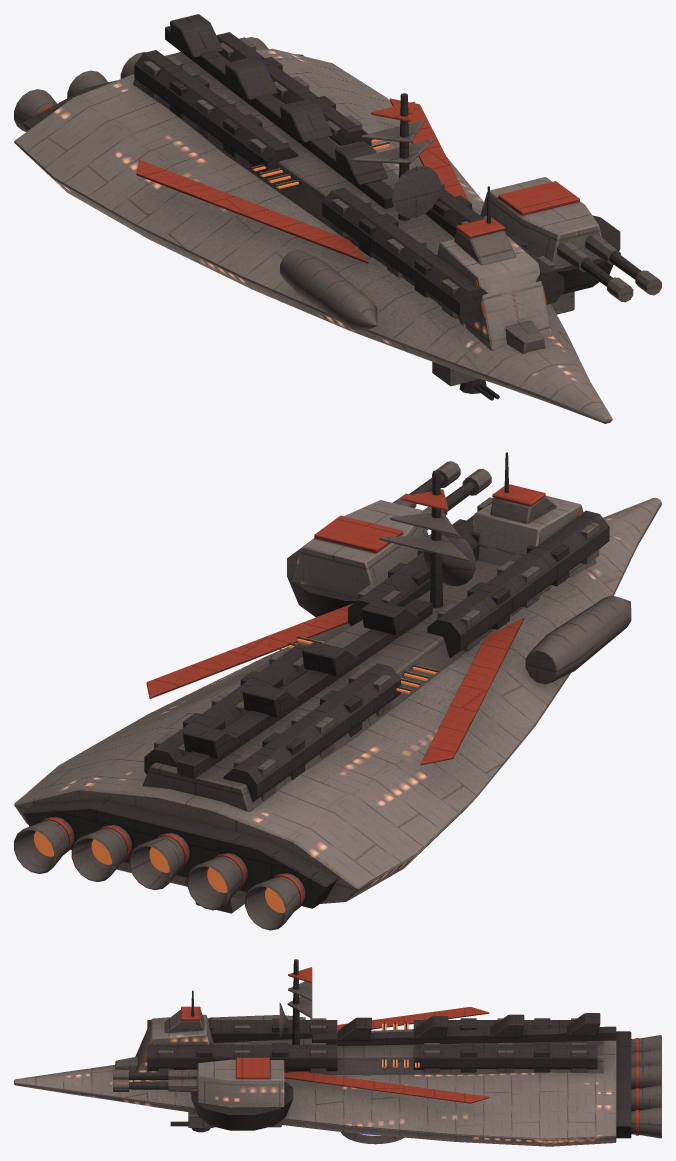
Rendered from vashkar_picket.glb.
3 views of the same model, one above another, from view 1: azimuth 30°, elevation 25°; view 2: azimuth 150°, elevation 25°; view 3: azimuth 270°, elevation 25° (orthographic). The views are drawn at different scales.
Parts seen in each view (by area): view 1: HULL, SYS_WPN1, SYS_BUS_A, SYS_BUS_F, SYS_BRIDGE, SYS_SENSORS, SYS_DRIVE, SYS_PD, SYS_REACTOR; view 2: HULL, SYS_DRIVE, SYS_BUS_A, SYS_BUS_F, SYS_WPN1, SYS_BRIDGE, SYS_SENSORS; view 3: HULL, SYS_WPN1, SYS_BUS_F, SYS_BUS_A, SYS_DRIVE, SYS_BRIDGE, SYS_SENSORS, SYS_DAMP, SYS_PD.
Boxes of the visible parts, <box> form: HULL: <box>14,14,612,423</box>; SYS_WPN1: <box>480,177,661,314</box>; SYS_BUS_A: <box>134,32,371,177</box>; SYS_BUS_F: <box>322,180,564,323</box>; SYS_BRIDGE: <box>433,186,551,350</box>; SYS_SENSORS: <box>351,93,440,220</box>; SYS_DRIVE: <box>14,37,303,131</box>; SYS_PD: <box>432,362,499,400</box>; SYS_REACTOR: <box>251,139,393,188</box>; HULL: <box>14,497,661,903</box>; SYS_DRIVE: <box>14,799,337,930</box>; SYS_BUS_A: <box>144,644,400,801</box>; SYS_BUS_F: <box>348,497,609,657</box>; SYS_WPN1: <box>287,461,491,617</box>; SYS_BRIDGE: <box>472,452,596,595</box>; SYS_SENSORS: <box>379,470,475,607</box>; HULL: <box>14,1007,616,1146</box>; SYS_WPN1: <box>113,1057,293,1130</box>; SYS_BUS_F: <box>147,1018,337,1072</box>; SYS_BUS_A: <box>413,1018,597,1072</box>; SYS_DRIVE: <box>616,1031,661,1138</box>; SYS_BRIDGE: <box>133,990,213,1081</box>; SYS_SENSORS: <box>279,959,312,1044</box>; SYS_DAMP: <box>341,1132,403,1144</box>; SYS_PD: <box>170,1112,213,1132</box>.
Size of the model in its own units: 9.6 by 7 by 23.38.
1 material, 1 textured.
